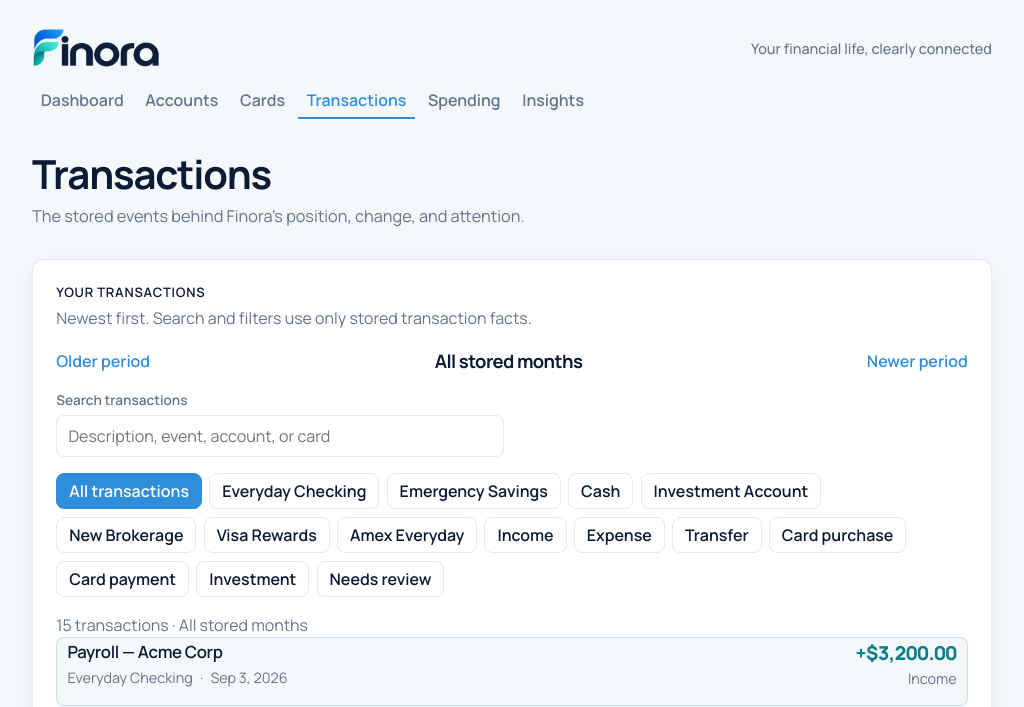
Test case: Finora transactions list › shows an empty state when no transactions match
The width and height of the screenshot is (1024, 707).
What coordinates should you click on to do the following:
click the button with aria-label "Show only New Brokerage"
I would click on:
 (126, 535)
Its box is [56, 516, 196, 553].
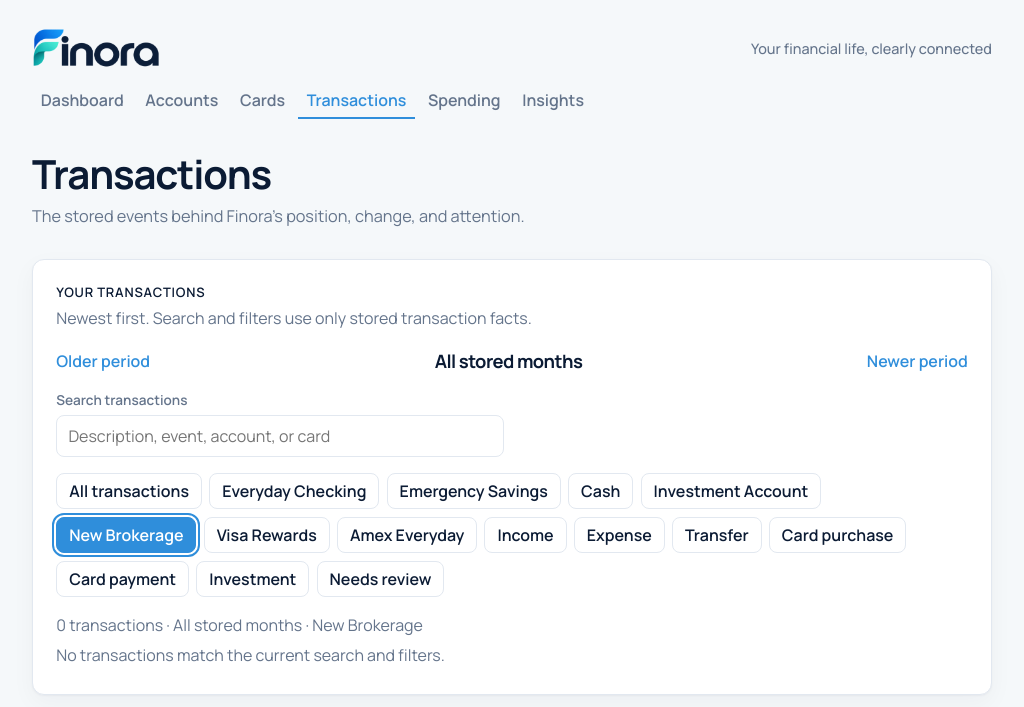
expect the text "No transactions match the current search and filters." is shown: met, box [56, 644, 445, 666]
